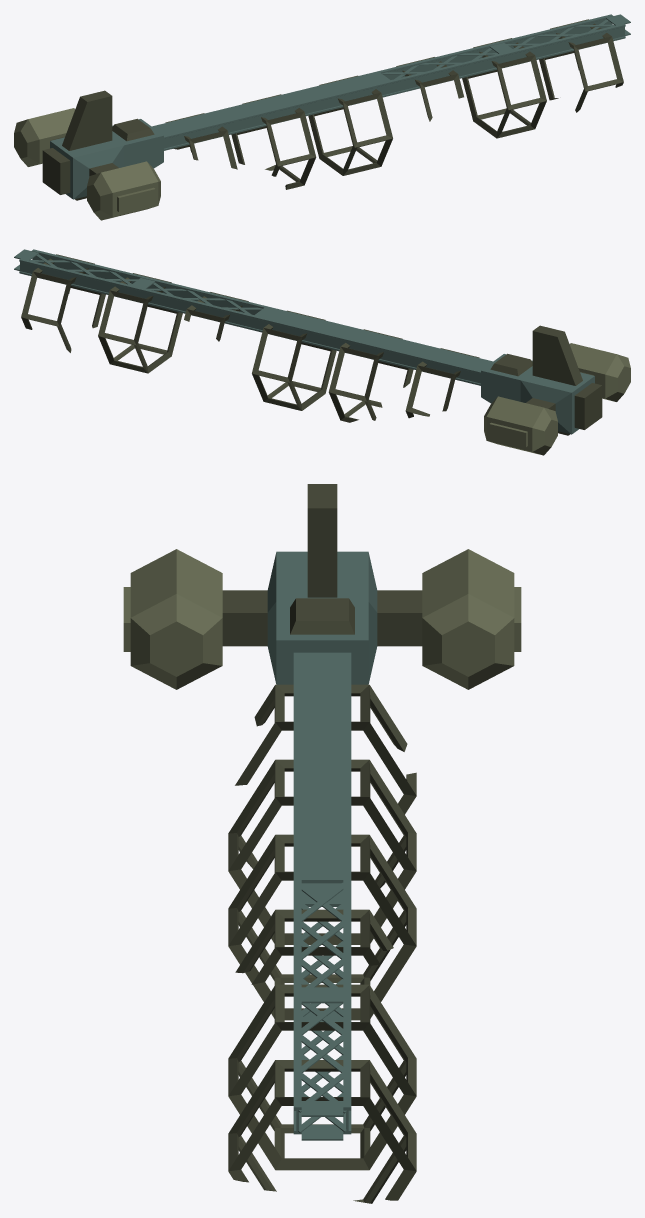
Rendered from RibShip.fbx.
3 views of the same model, one above another, from view 1: azimuth 30°, elevation 25°; view 2: azimuth 150°, elevation 25°; view 3: azimuth 270°, elevation 25° (orthographic). The views are drawn at different scales.
Visible parts, largest first — view 1: Cylinder.002; view 2: Cylinder.002; view 3: Cylinder.002.
Part boxes in pixels (<box>): Cylinder.002: <box>14,14,630,220</box>; Cylinder.002: <box>14,249,630,455</box>; Cylinder.002: <box>123,484,521,1203</box>.
Bounding box in the file's own units: 1118 × 239 × 335.
